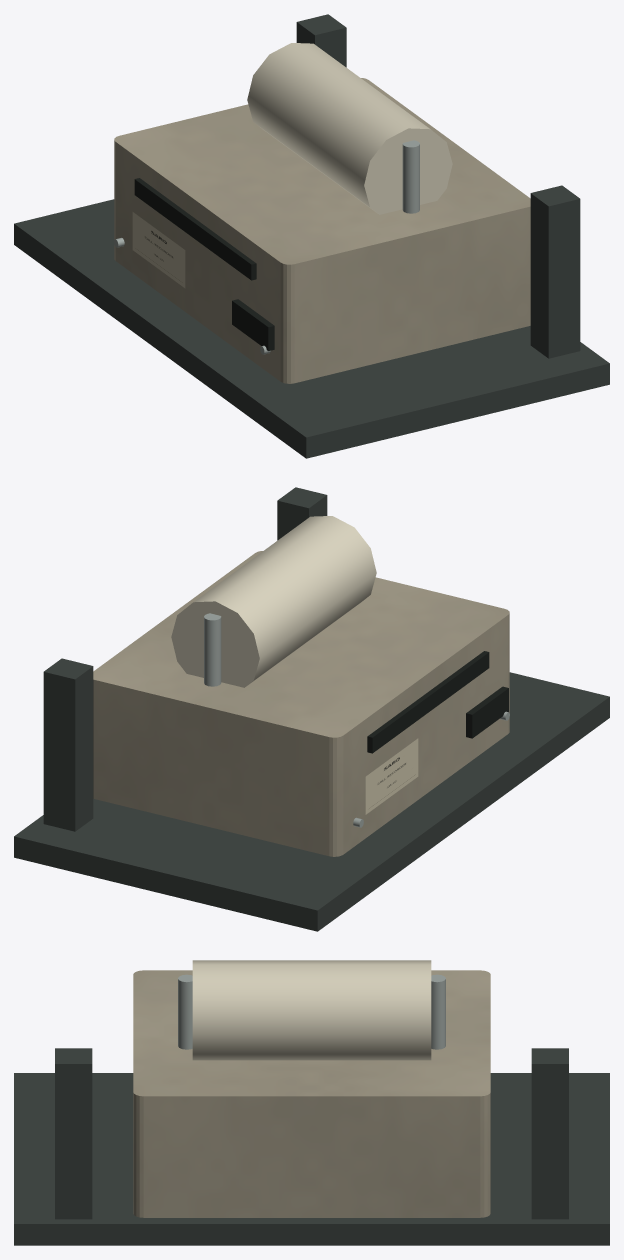
File: SM_ArchiveProps_CallRecorder.fbx
3 renders of one model, top to bottom at view 1: azimuth 30°, elevation 25°; view 2: azimuth 150°, elevation 25°; view 3: azimuth 270°, elevation 25°, orthographic.
Visible parts, largest first — view 1: SM_ArchiveProps_CallRecorder; view 2: SM_ArchiveProps_CallRecorder; view 3: SM_ArchiveProps_CallRecorder.
Part boxes in pixels (x1,y1,x2,y2): SM_ArchiveProps_CallRecorder: [14, 14, 609, 458]; SM_ArchiveProps_CallRecorder: [14, 487, 609, 931]; SM_ArchiveProps_CallRecorder: [14, 960, 609, 1245].
Size of the model in its own units: 0.24 by 0.4 by 0.166.
